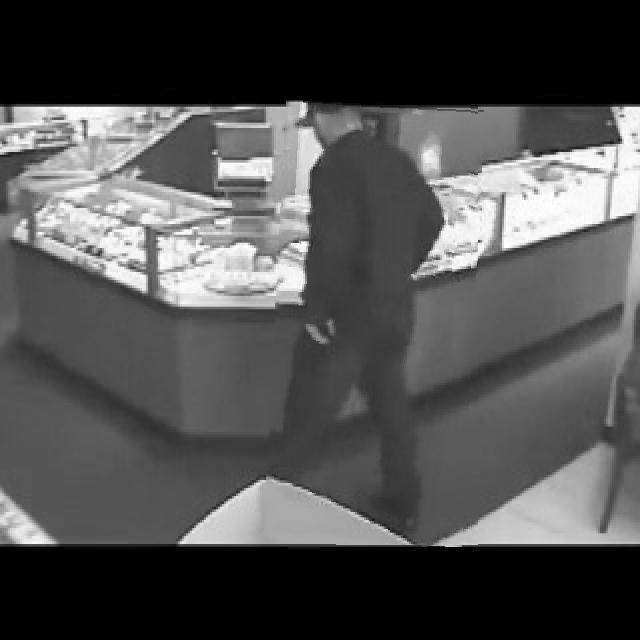normal: (269, 103, 479, 545)
